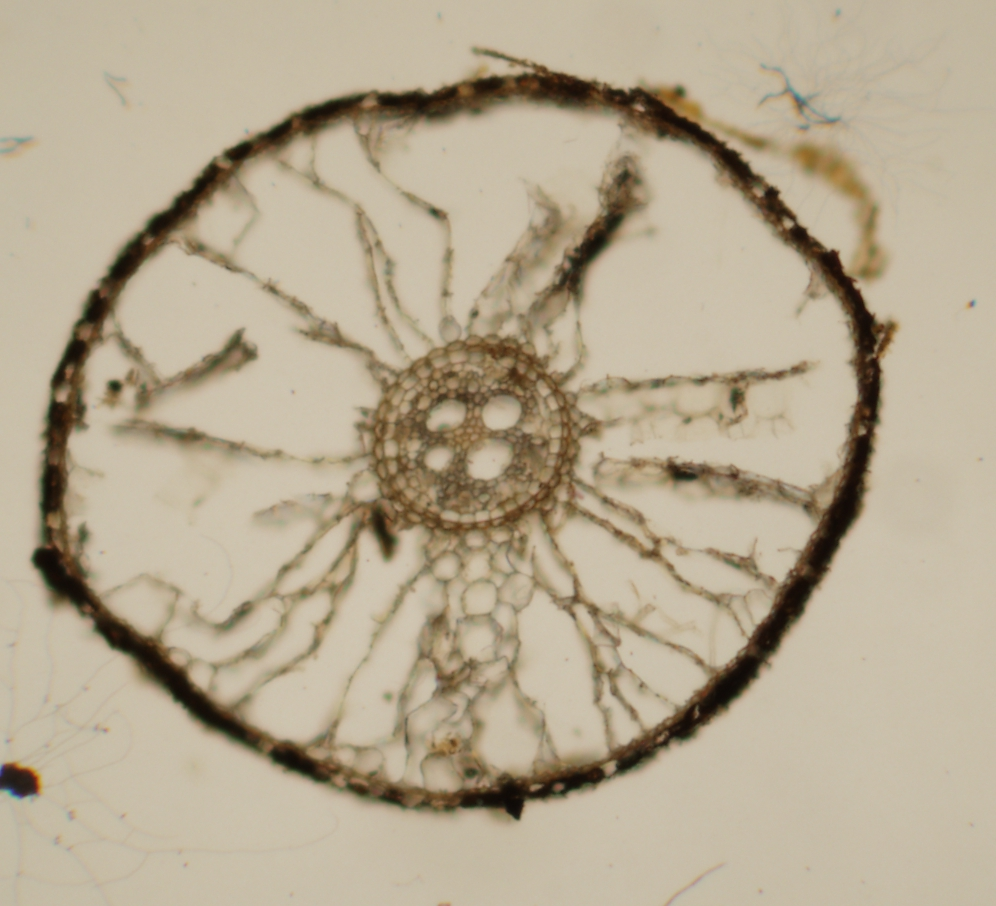lm: (464, 437, 513, 480), (482, 394, 522, 430), (426, 398, 467, 431), (423, 444, 455, 472)
